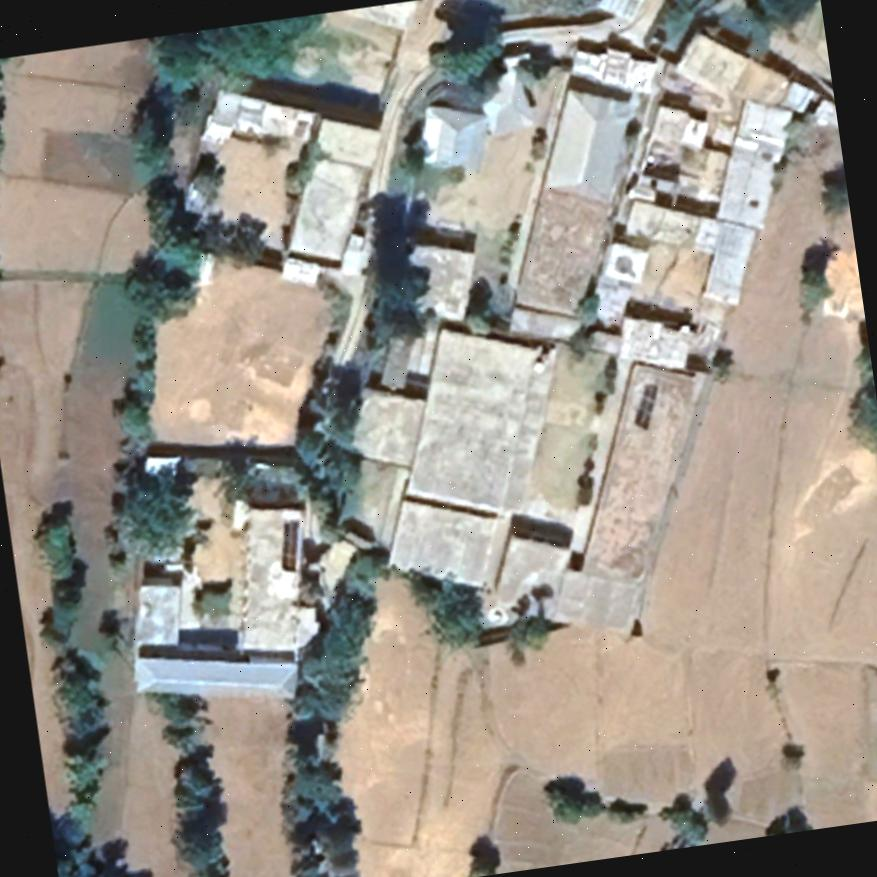Solarpanel: (270, 516, 309, 576), (633, 379, 660, 430)
